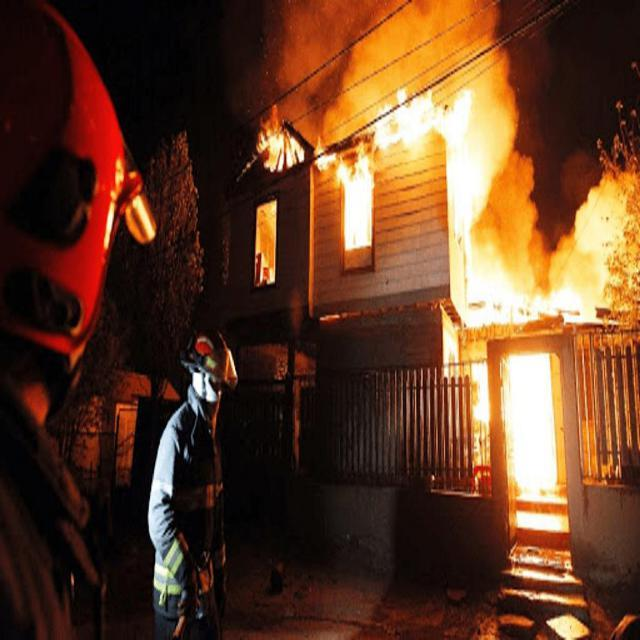Fire: (374, 69, 634, 326), (316, 128, 369, 248), (256, 107, 308, 172)
